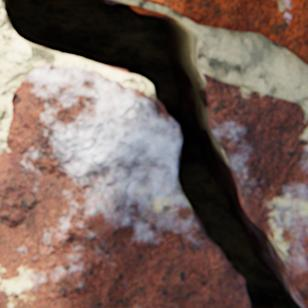brick: (144, 0, 307, 64)
broken_brick: (0, 64, 248, 307), (203, 74, 307, 305)
crack: (1, 0, 307, 307)
